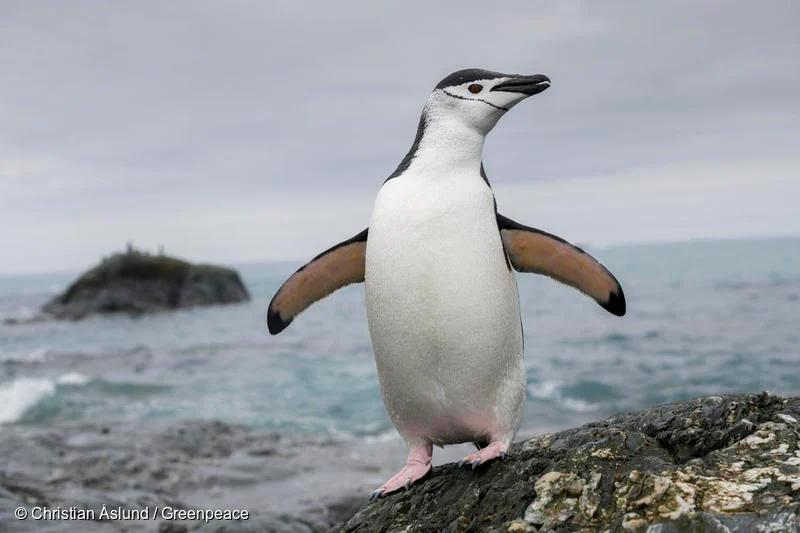Penguin: (266, 69, 626, 495)
